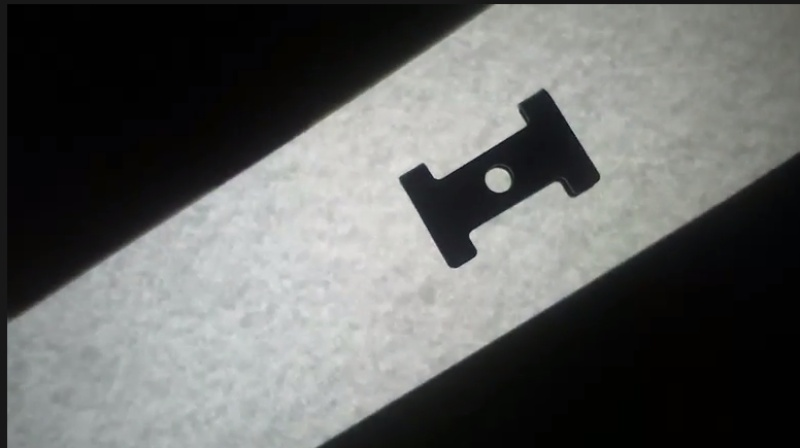O002: (392, 87, 602, 271)
